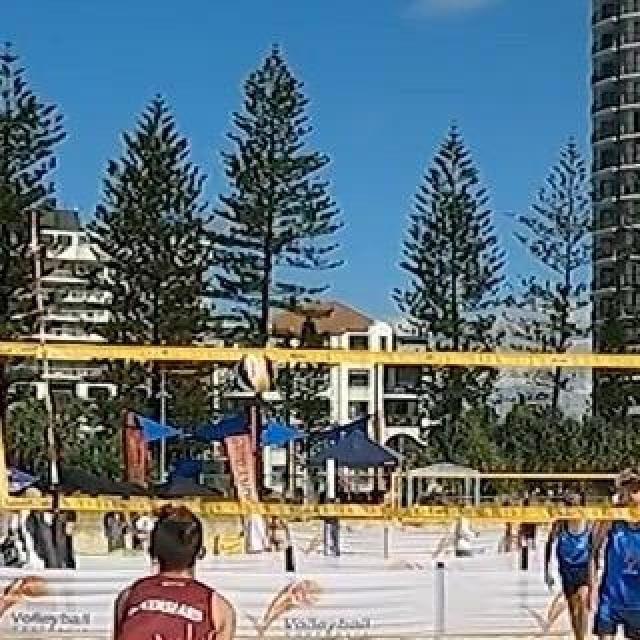volleyball: (235, 353, 275, 393)
